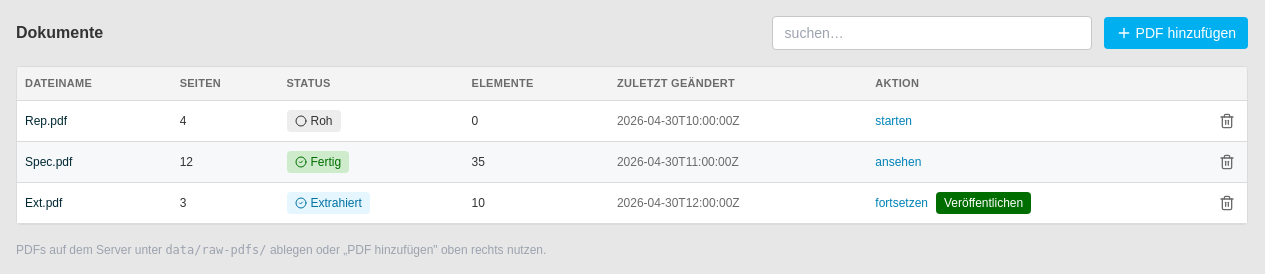
Scenario: InboxRoute › filters by search input
Expected: the text "Rep.pdf" is shown, 17,100 -> 172,141
Step 1. Type "spec" into the field with placeholder "suchen…" → (932, 33), box 772,16 -> 1092,50
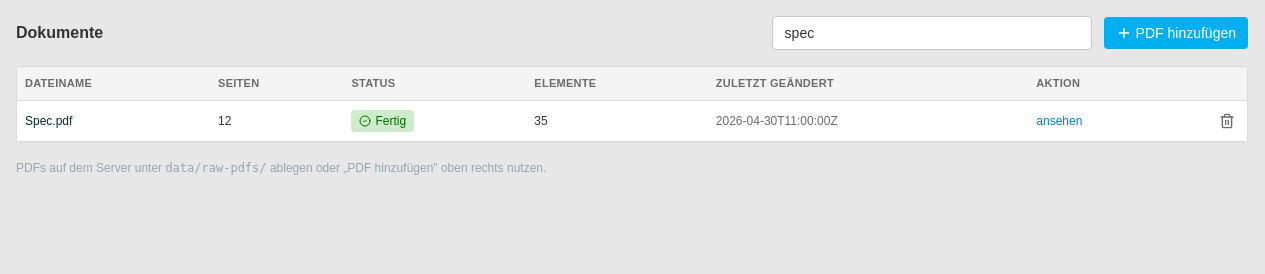
Expected: the text "Spec.pdf" is shown, 17,100 -> 210,141
Expected: the text "Rep.pdf" is gone
